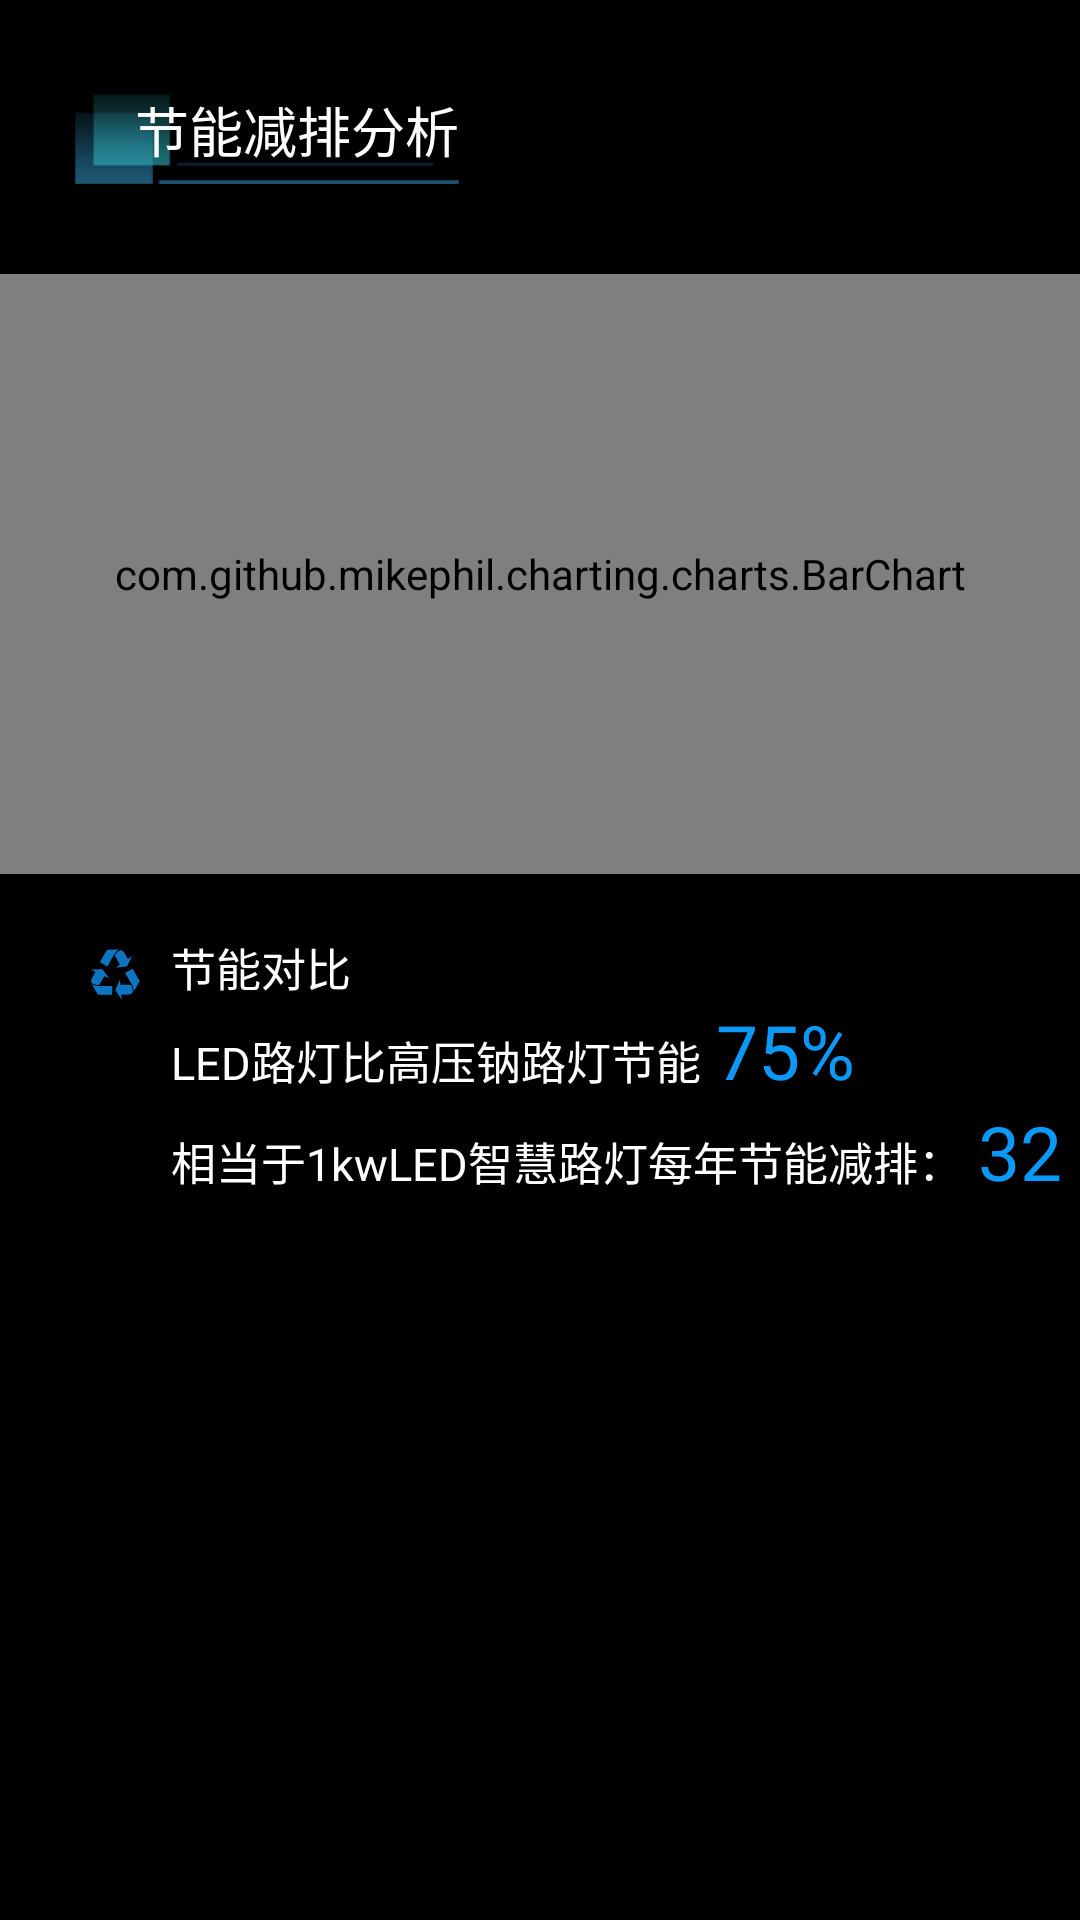

Icon click points for this 1080 × 1920 phone screenshot, format (x=x, y=y):
environmental: (x=115, y=974)
